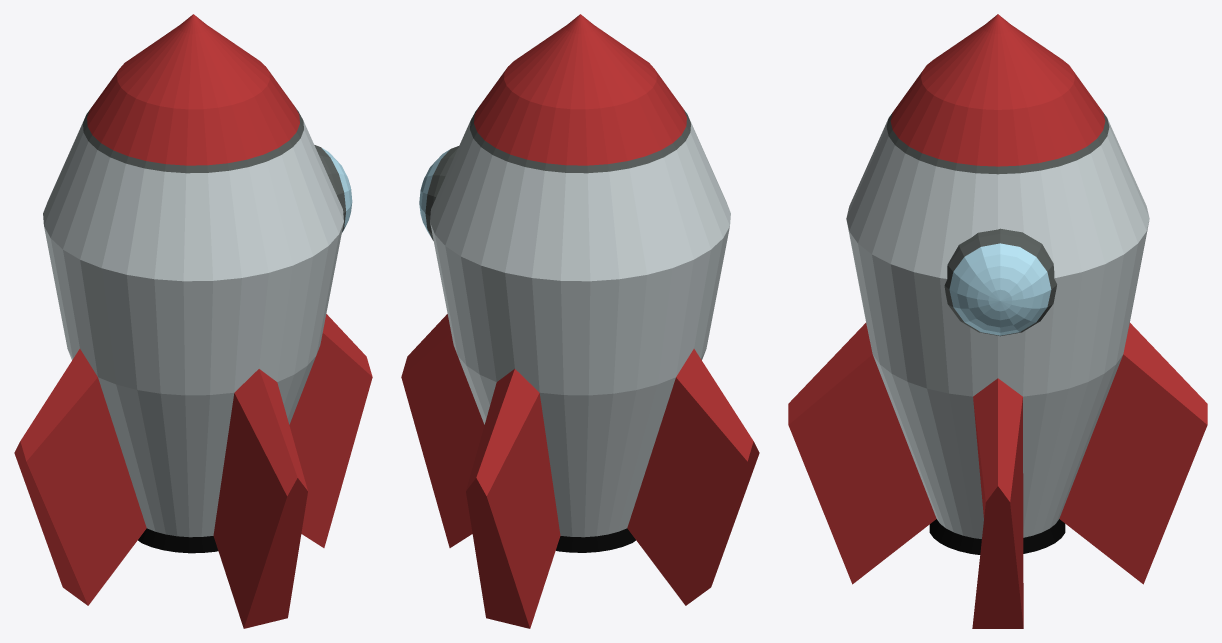
File: Rocket-Ver1.fbx
3 renders of one model, left to right at view 1: azimuth 30°, elevation 25°; view 2: azimuth 150°, elevation 25°; view 3: azimuth 270°, elevation 25°, orthographic.
Parts seen in each view (by area): view 1: Rocket; view 2: Rocket; view 3: Rocket.
Part boxes in pixels (x1,y1,x2,y2): Rocket: (14,14,372,628); Rocket: (401,14,759,628); Rocket: (788,14,1207,628).
Bounding box in the file's own units: 386 × 593 × 403.
